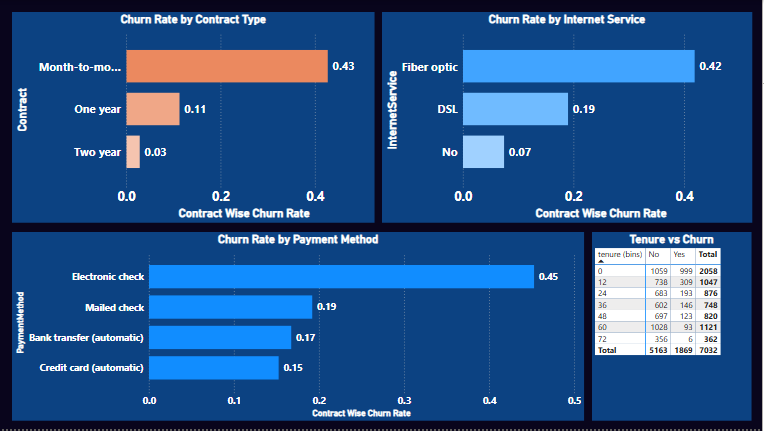

The page's visual inventory and layout, read from the dashboard file:
{"tool":"powerbi","page":{"name":"Churn Drivers","canvas":[1280,720],"ordinal":1},"visuals":[{"type":"clusteredBarChart","title":"Churn Rate by Contract Type","fields":{"Y":["churn_predictions.Contract Wise Churn Rate"],"Category":["churn_predictions.Contract"]},"box":[19.4,19.4,609.2,353.9],"z":0},{"type":"clusteredBarChart","title":"Churn Rate by Payment Method","fields":{"Y":["churn_predictions.Contract Wise Churn Rate"],"Category":["churn_predictions.PaymentMethod"]},"box":[19.4,389.1,961.3,316.9],"z":1000},{"type":"clusteredBarChart","title":"Churn Rate by Internet Service","fields":{"Y":["churn_predictions.Contract Wise Churn Rate"],"Category":["churn_predictions.InternetService"]},"box":[640.9,19.4,621.5,353.9],"z":2000},{"type":"pivotTable","title":"Tenure vs Churn","fields":{"Rows":["churn_predictions.tenure (bins)"],"Columns":["churn_predictions.Churn"],"Values":["churn_predictions.Total Customers"]},"box":[994.8,389.1,267.6,316.9],"z":3000}]}

Visuals, with their boxes in screenshot pixels (x1, y1, x2, y2), scaled from the page's 1280x720 canvas onto the 764x431 screenshot:
"Churn Rate by Contract Type" clusteredBarChart: <box>12,12,375,223</box>
"Churn Rate by Payment Method" clusteredBarChart: <box>12,233,585,423</box>
"Churn Rate by Internet Service" clusteredBarChart: <box>383,12,753,223</box>
"Tenure vs Churn" pivotTable: <box>594,233,753,423</box>
